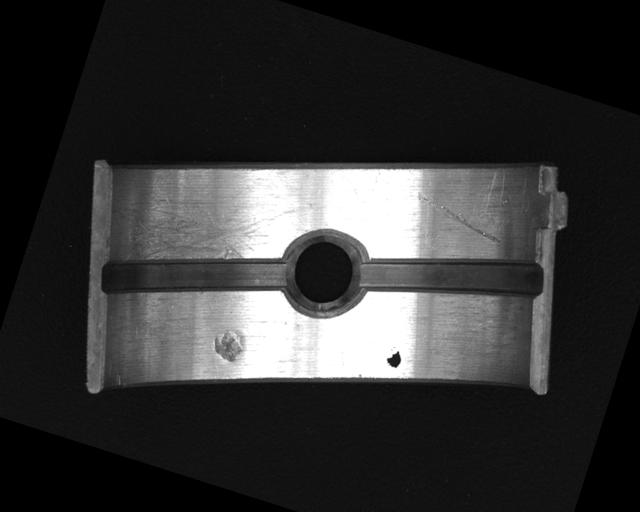blot: (383, 344, 405, 370)
bruise: (208, 322, 252, 366)
gap: (96, 209, 292, 342), (354, 212, 548, 342)
hole: (273, 222, 374, 323)
nick: (410, 191, 509, 246)
scratch: (104, 157, 297, 301)
